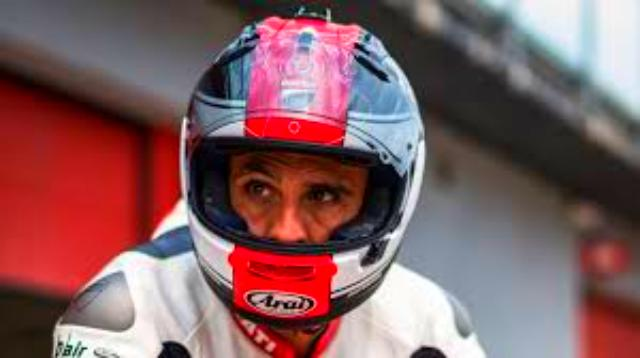helm: (176, 7, 430, 328)
